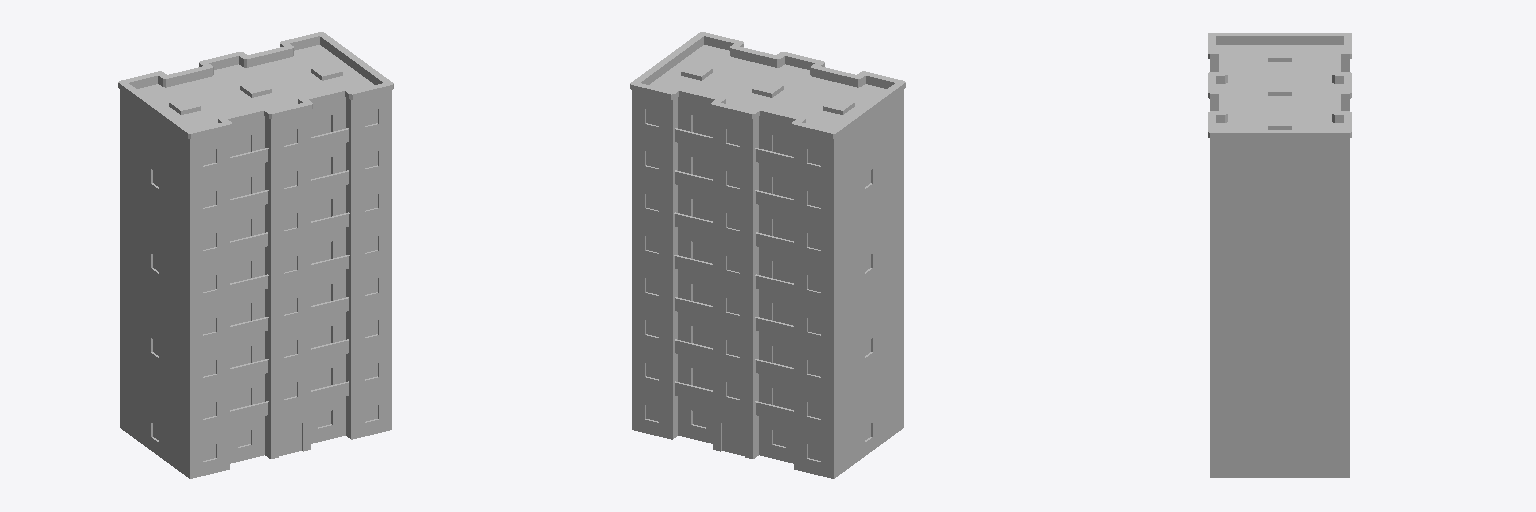
Rendered from large_building_a_tallest.obj.
3 renders of one model, left to right at view 1: azimuth 30°, elevation 25°; view 2: azimuth 150°, elevation 25°; view 3: azimuth 270°, elevation 25°, orthographic.
Visible parts, largest first — view 1: large_buildingA.001, large_buildingA.002, large_buildingA.003, large_buildingA.004, large_buildingA; view 2: large_buildingA.001, large_buildingA.002, large_buildingA.003, large_buildingA.004, large_buildingA; view 3: large_buildingA.001, large_buildingA.003, large_buildingA.002, large_buildingA.004, large_buildingA.
Boxes of the visible parts, x1,y1,x2,y2 form: large_buildingA.001: [118, 32, 393, 183]; large_buildingA.002: [120, 133, 391, 267]; large_buildingA.003: [120, 217, 391, 352]; large_buildingA.004: [120, 302, 391, 436]; large_buildingA: [120, 386, 391, 478]; large_buildingA.001: [630, 32, 905, 183]; large_buildingA.002: [632, 133, 903, 267]; large_buildingA.003: [632, 217, 903, 352]; large_buildingA.004: [632, 302, 903, 436]; large_buildingA: [632, 386, 903, 478]; large_buildingA.001: [1208, 33, 1351, 182]; large_buildingA.003: [1210, 267, 1349, 351]; large_buildingA.002: [1210, 183, 1349, 266]; large_buildingA.004: [1210, 352, 1349, 435]; large_buildingA: [1210, 436, 1349, 477].
Bounding box in the file's own units: 4.08 × 6.56 × 2.48.